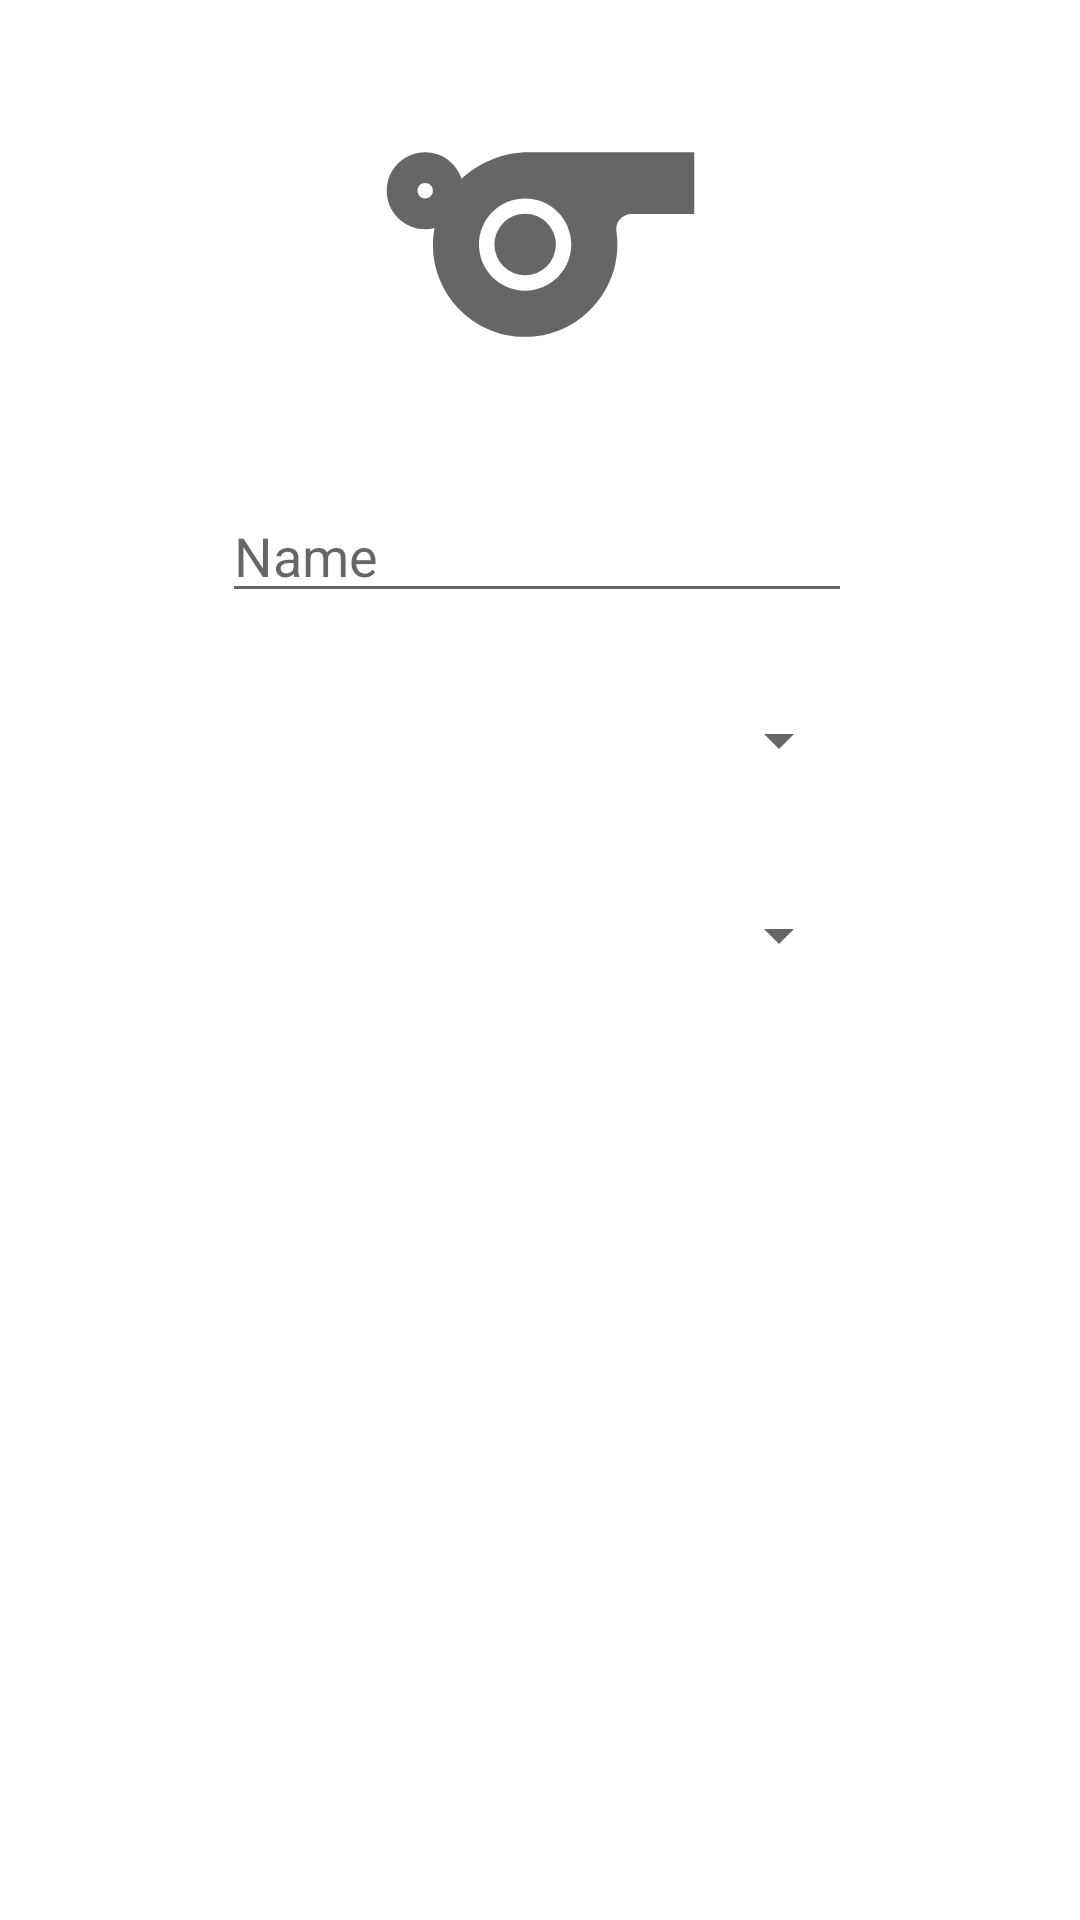

Icons on this 1080×1920 Android screen, each with the point to tap as point (x, y):
sports: point (540, 244)
